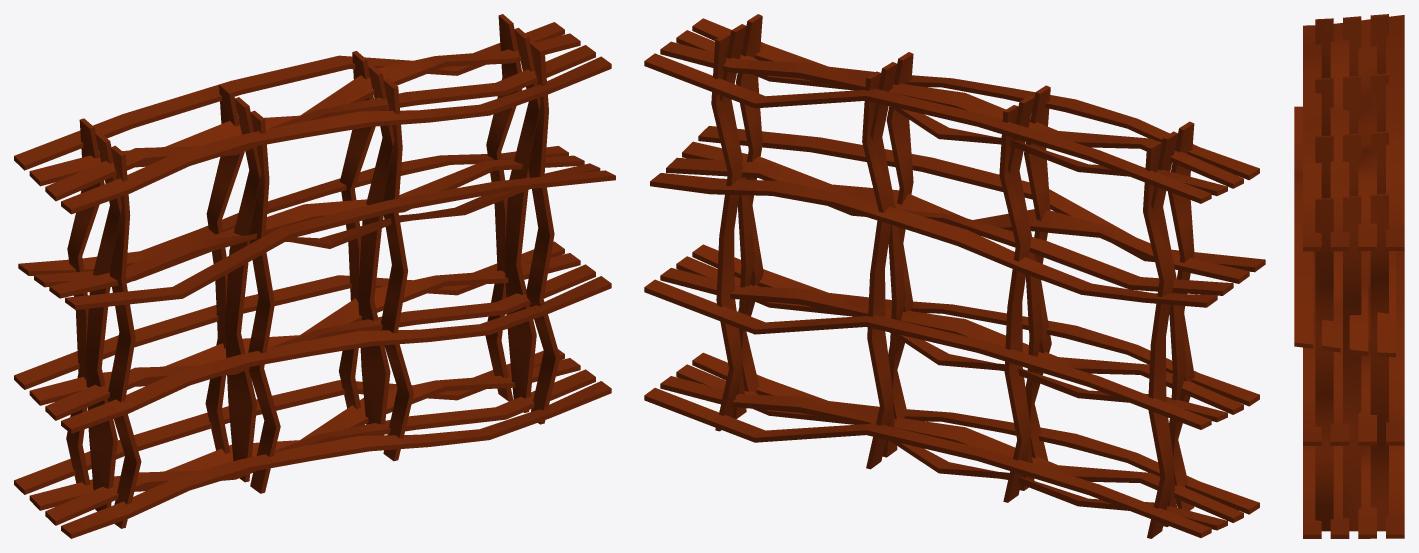
File: regal_v.fbx
3 renders of one model, left to right at view 1: azimuth 30°, elevation 25°; view 2: azimuth 150°, elevation 25°; view 3: azimuth 270°, elevation 25°, orthographic. The views are drawn at different scales.
Parts seen in each view (by area): view 1: Regal001.000, Regal001.021, Regal001.028, Regal001.017, Regal001.004, Regal001.002, Regal001.003, Regal001.027, Regal001.022, Regal001.009, Regal001.015, Regal001.018 (+16 smaller); view 2: Regal001.020, Regal001.004, Regal001.024, Regal001.025, Regal001.019, Regal001.018, Regal001.028, Regal001.017, Regal001.003, Regal001.026, Regal001.000, Regal001.027 (+16 smaller); view 3: Regal001.014, Regal001.015, Regal001.016, Regal001.004, Regal001.000, Regal001.002, Regal001.003, Regal001.017, Regal001.024, Regal001.021, Regal001.025, Regal001.023 (+16 smaller).
Part boxes in pixels (x1=…): Regal001.000: x1=61, y1=56, x2=611, y2=214; Regal001.021: x1=61, y1=276, x2=611, y2=433; Regal001.028: x1=61, y1=381, x2=611, y2=538; Regal001.017: x1=65, y1=170, x2=615, y2=309; Regal001.004: x1=14, y1=22, x2=564, y2=170; Regal001.002: x1=45, y1=45, x2=595, y2=201; Regal001.003: x1=29, y1=33, x2=580, y2=186; Regal001.027: x1=45, y1=369, x2=595, y2=525; Regal001.022: x1=45, y1=264, x2=595, y2=420; Regal001.009: x1=225, y1=97, x2=261, y2=482; Regal001.015: x1=504, y1=28, x2=540, y2=412; Regal001.018: x1=49, y1=163, x2=600, y2=298; Regal001.020: x1=650, y1=173, x2=1217, y2=307; Regal001.004: x1=644, y1=53, x2=1211, y2=203; Regal001.024: x1=644, y1=279, x2=1211, y2=429; Regal001.025: x1=644, y1=388, x2=1211, y2=537; Regal001.019: x1=666, y1=157, x2=1233, y2=295; Regal001.018: x1=682, y1=141, x2=1249, y2=283; Regal001.028: x1=692, y1=352, x2=1259, y2=514; Regal001.017: x1=698, y1=126, x2=1265, y2=272; Regal001.003: x1=660, y1=41, x2=1227, y2=195; Regal001.026: x1=660, y1=376, x2=1227, y2=530; Regal001.000: x1=692, y1=18, x2=1259, y2=180; Regal001.027: x1=676, y1=364, x2=1243, y2=522; Regal001.014: x1=1315, y1=197, x2=1333, y2=531; Regal001.015: x1=1343, y1=195, x2=1361, y2=531; Regal001.016: x1=1370, y1=193, x2=1388, y2=531; Regal001.004: x1=1386, y1=15, x2=1404, y2=250; Regal001.000: x1=1303, y1=25, x2=1321, y2=251; Regal001.002: x1=1330, y1=23, x2=1349, y2=251; Regal001.003: x1=1358, y1=19, x2=1376, y2=250; Regal001.017: x1=1294, y1=106, x2=1312, y2=348; Regal001.024: x1=1386, y1=251, x2=1404, y2=445; Regal001.021: x1=1303, y1=251, x2=1321, y2=445; Regal001.025: x1=1386, y1=445, x2=1404, y2=538; Regal001.023: x1=1358, y1=251, x2=1376, y2=445.
Size of the model in its own units: 1081 by 727 by 215.
